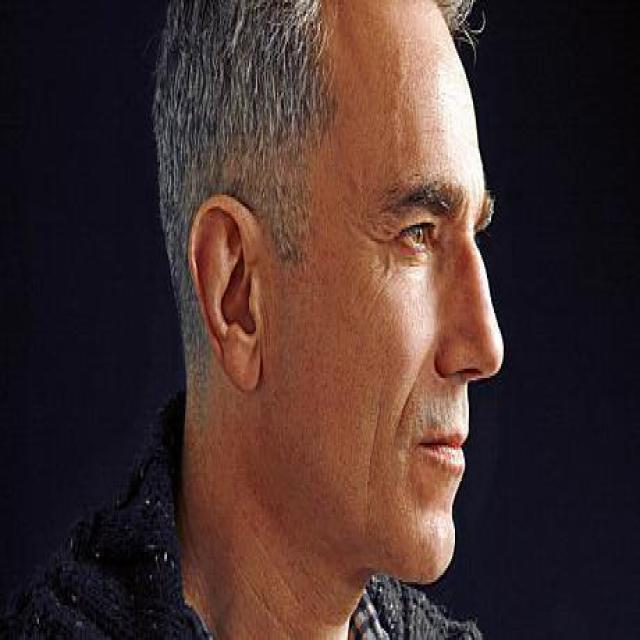no-earmuff: (175, 168, 292, 408)
